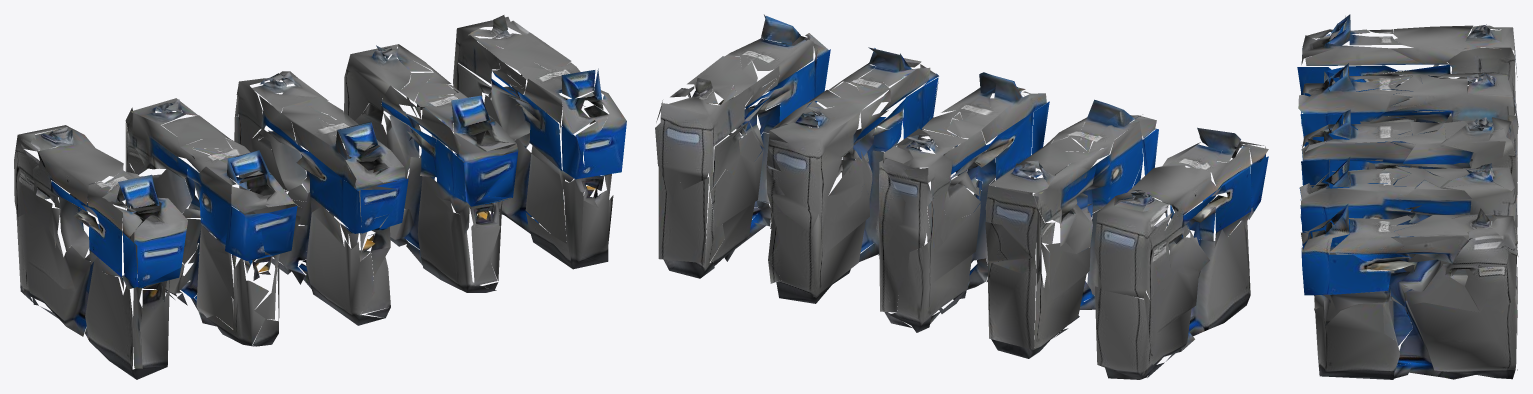
The model's file is station_gate.glb.
The picture shows the model from 3 angles, left to right: view 1: azimuth 30°, elevation 25°; view 2: azimuth 150°, elevation 25°; view 3: azimuth 270°, elevation 25°; orthographic projection. The views are drawn at different scales.
Parts seen in each view (by area): view 1: tripo_node_aa28bd09-1ee9-4fe9-a0c9-fa59a29a25de; view 2: tripo_node_aa28bd09-1ee9-4fe9-a0c9-fa59a29a25de; view 3: tripo_node_aa28bd09-1ee9-4fe9-a0c9-fa59a29a25de.
Part boxes in pixels (x1,y1,x2,y2): tripo_node_aa28bd09-1ee9-4fe9-a0c9-fa59a29a25de: [14, 15, 626, 379]; tripo_node_aa28bd09-1ee9-4fe9-a0c9-fa59a29a25de: [655, 14, 1268, 379]; tripo_node_aa28bd09-1ee9-4fe9-a0c9-fa59a29a25de: [1297, 14, 1518, 379].
Bounding box in the file's own units: 3.44 × 1.24 × 1.48.
Materials: 1 (1 with a texture image).
